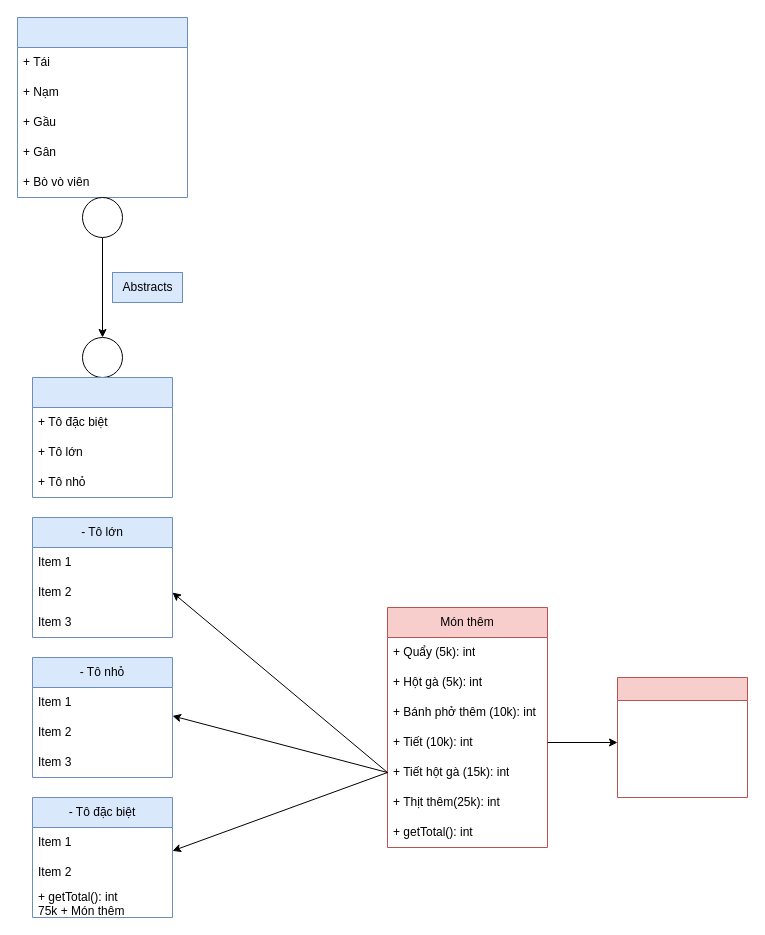
Some shapes in this 765 by 935 pixel diagram are drawn without their labels. Here are the shapes that lost their labels. From the top down, the box of each, then its label:
(16, 16, 188, 198): Phở
(32, 376, 172, 498): Tô
(616, 676, 748, 798): Số Lượng
